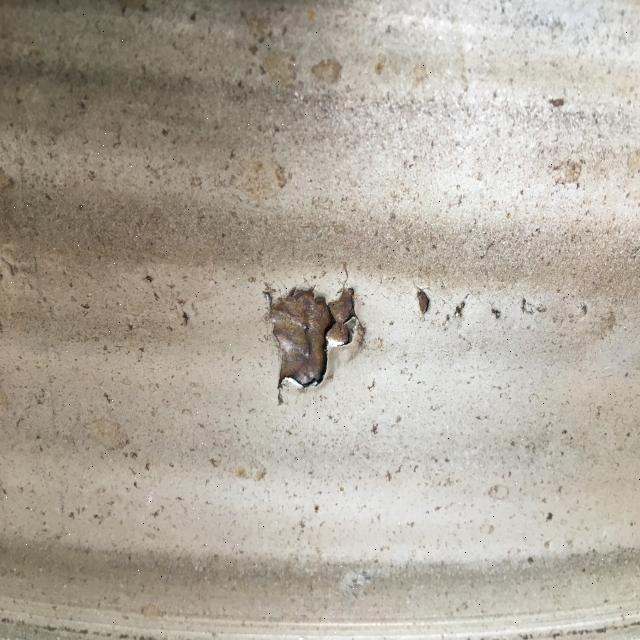boli: (261, 253, 361, 407)
